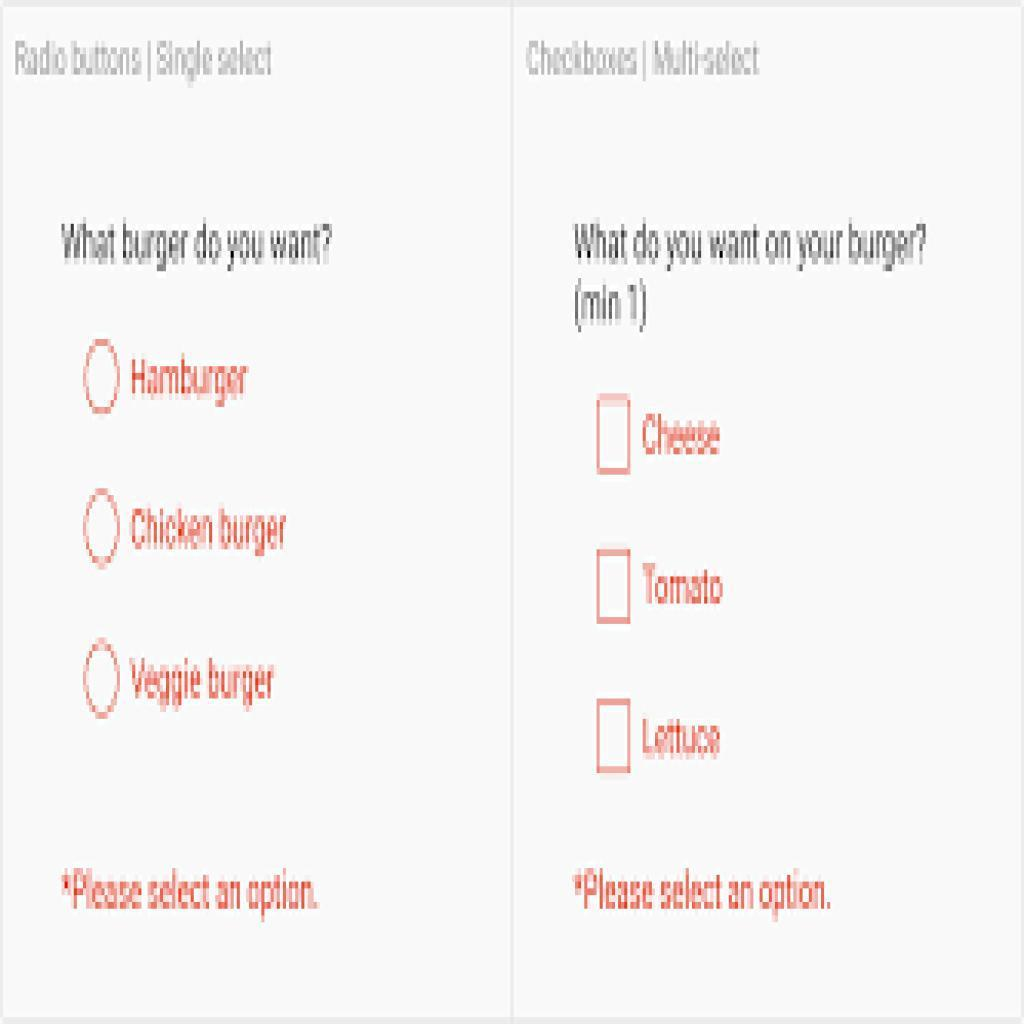checkbox: (597, 550, 635, 624), (597, 700, 635, 771), (599, 399, 630, 473)
radio: (80, 481, 124, 576), (82, 632, 129, 716), (83, 340, 127, 428)
